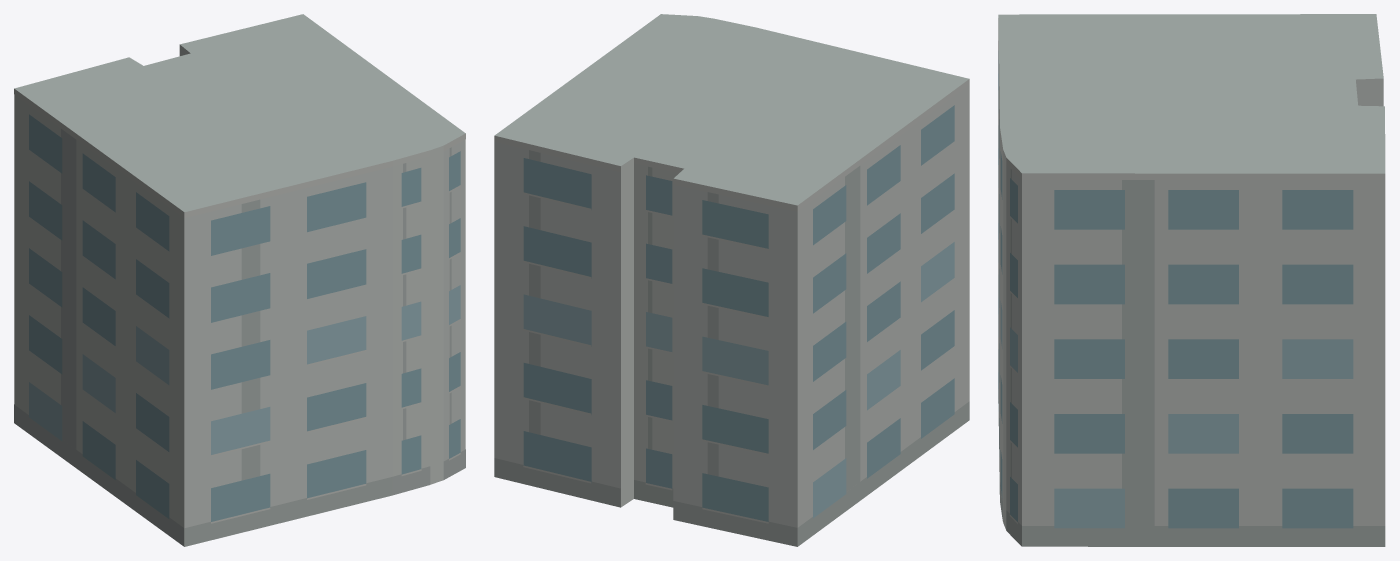
The model's file is survey-upis-32881465.glb.
3 renders of one model, left to right at view 1: azimuth 30°, elevation 25°; view 2: azimuth 150°, elevation 25°; view 3: azimuth 270°, elevation 25°, orthographic. The views are drawn at different scales.
Parts seen in each view (by area): view 1: survey-upis-32881465.tmp; view 2: survey-upis-32881465.tmp; view 3: survey-upis-32881465.tmp.
Boxes of the visible parts, x1=… form: survey-upis-32881465.tmp: x1=14, y1=14, x2=465, y2=546; survey-upis-32881465.tmp: x1=494, y1=14, x2=969, y2=546; survey-upis-32881465.tmp: x1=998, y1=14, x2=1385, y2=546.
Bounding box in the file's own units: 12.57 × 13.7 × 12.89.
